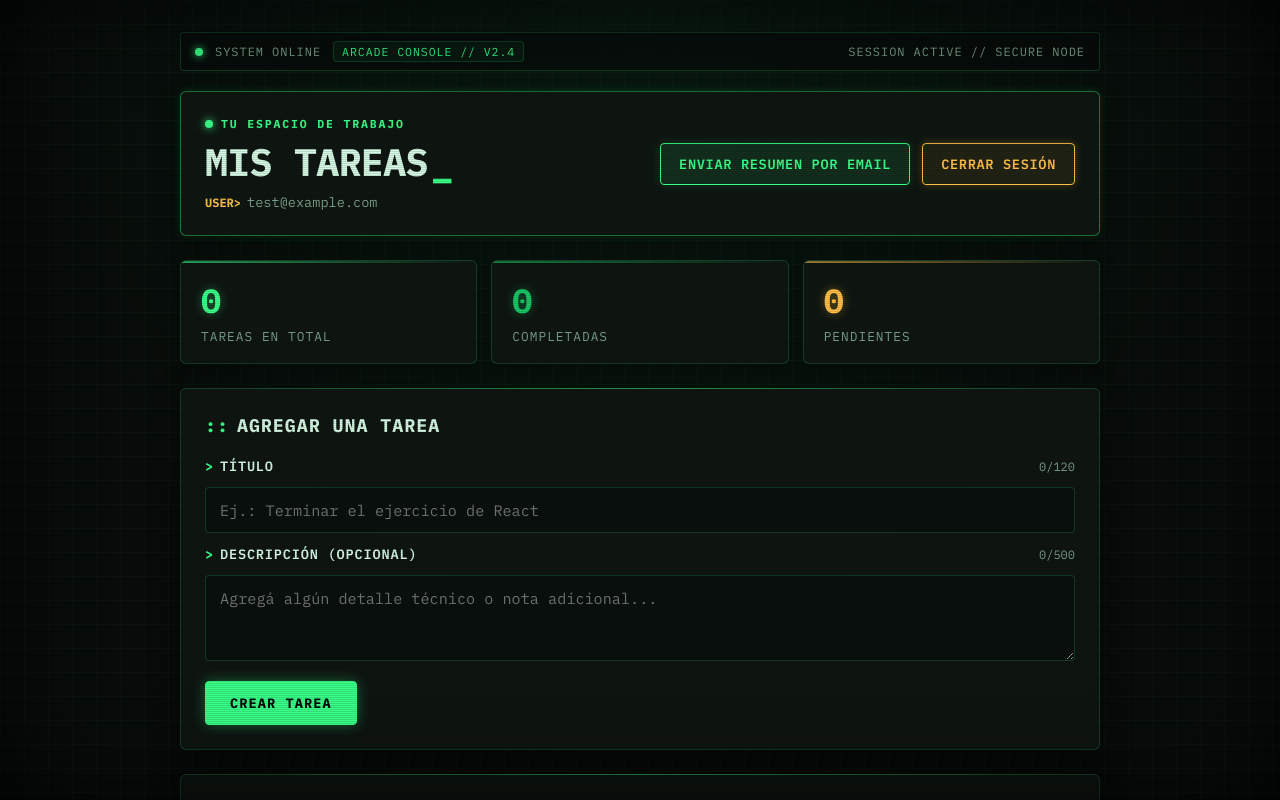
Test: TasksPage › muestra un error si falla la creación de una tarea
This screenshot has width=1280, height=800.
Type "Estudiar React" into the field labelled "Título".
click(640, 510); type("Estudiar React")  # box [205, 487, 1075, 533]
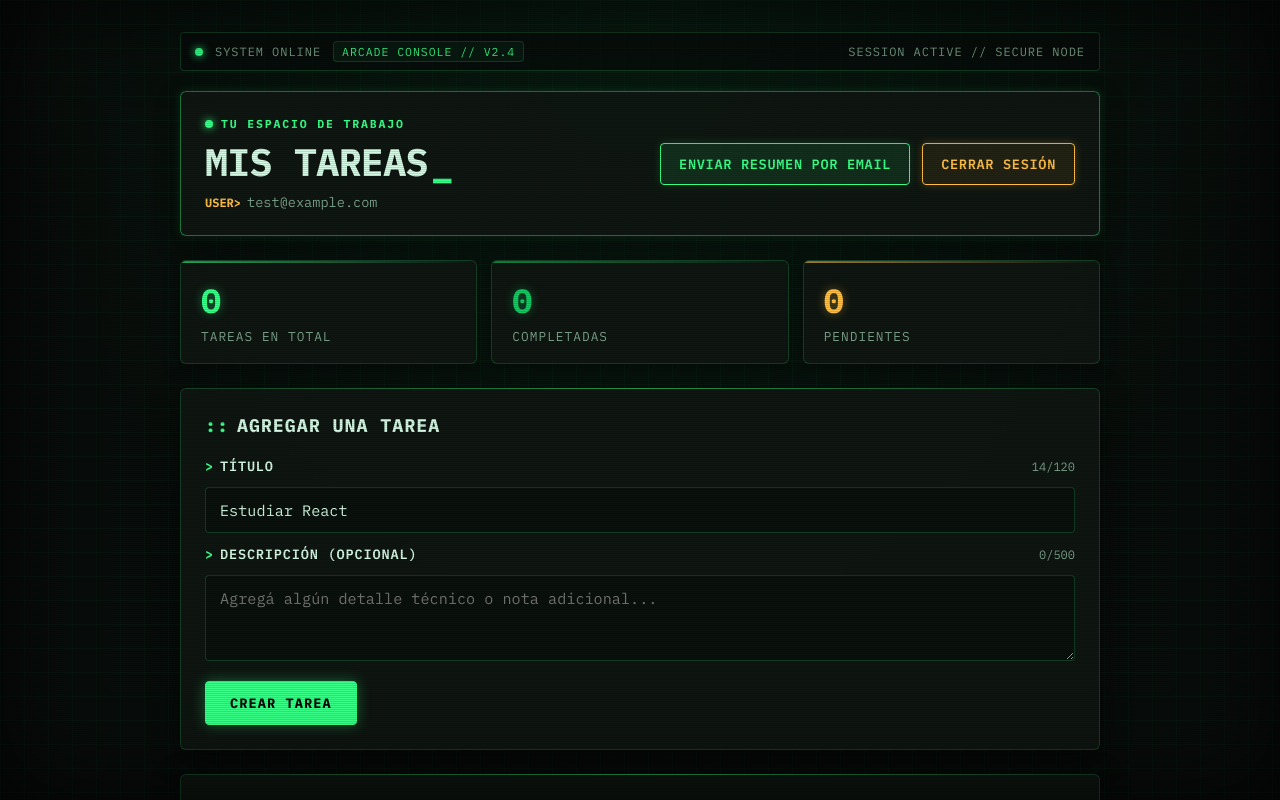
Click the button "Crear tarea".
click(281, 703)  # box [205, 681, 357, 725]
(page scrolled)
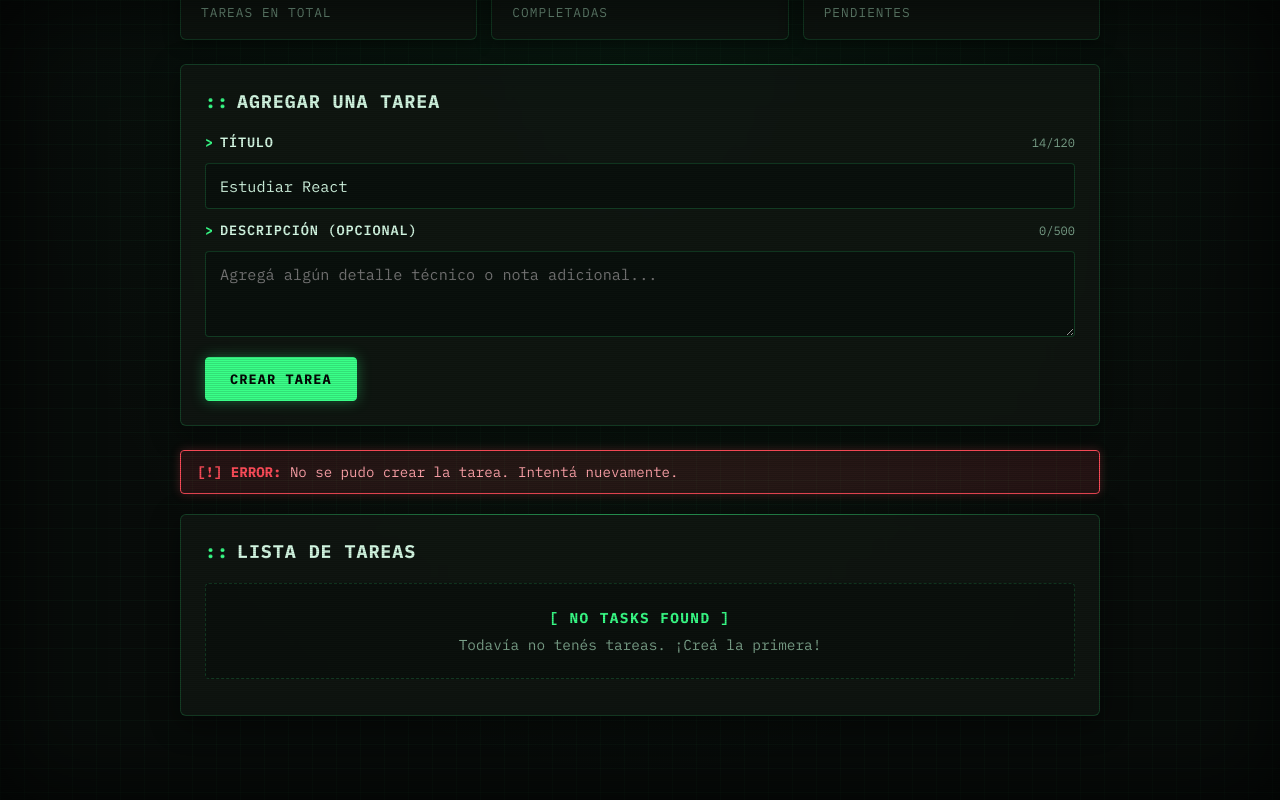
expect the message reads "No se pudo crear la tarea. Intentá nuevamente.": met, box [290, 463, 678, 481]
